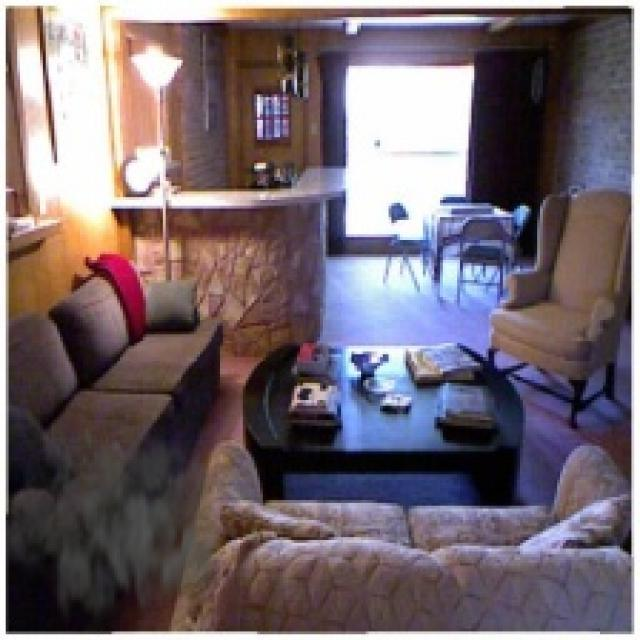Smoke: (6, 397, 234, 634)
